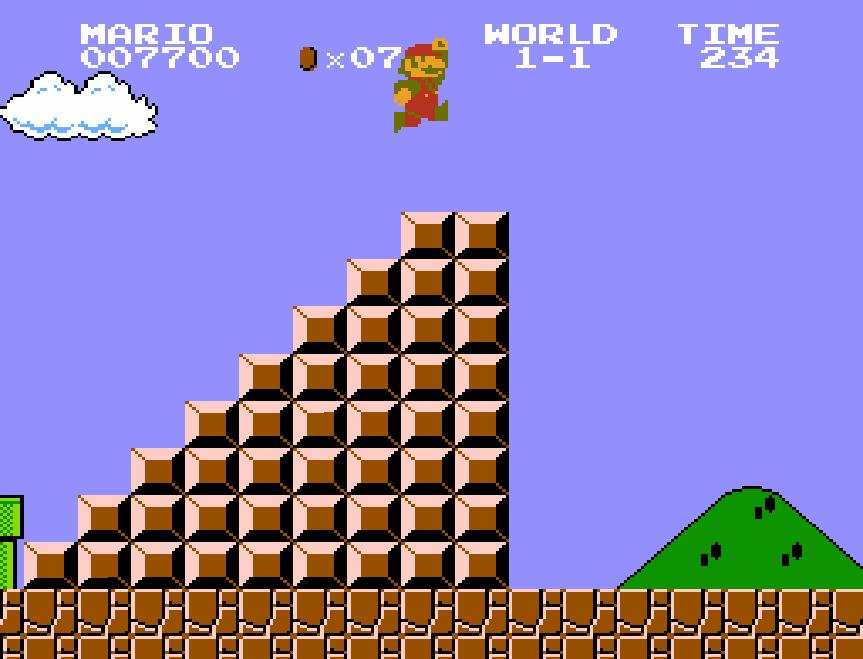big_mario: (392, 35, 450, 133)
